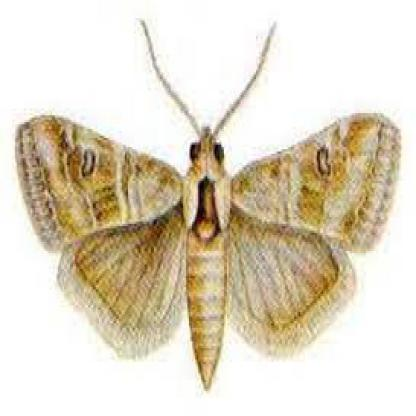Hellula undalis: (5, 8, 407, 385)
